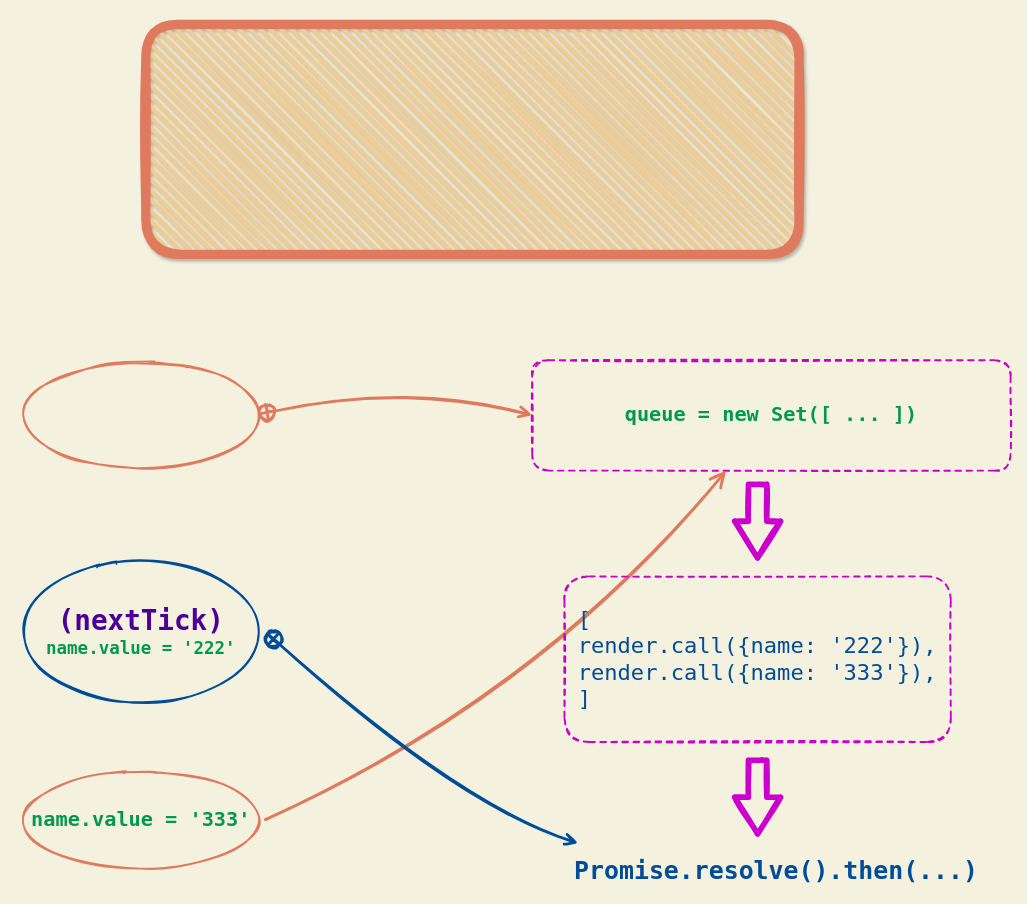
Image size: 1027x904. Some labels were removed from this diagram. The shapes that lost their labels are listed below. From the top down, each one's centre as x and y in pixels, then its label:
the point at 473,140: Vue.js nextTick( )
the point at 141,414: name.value = '222'
